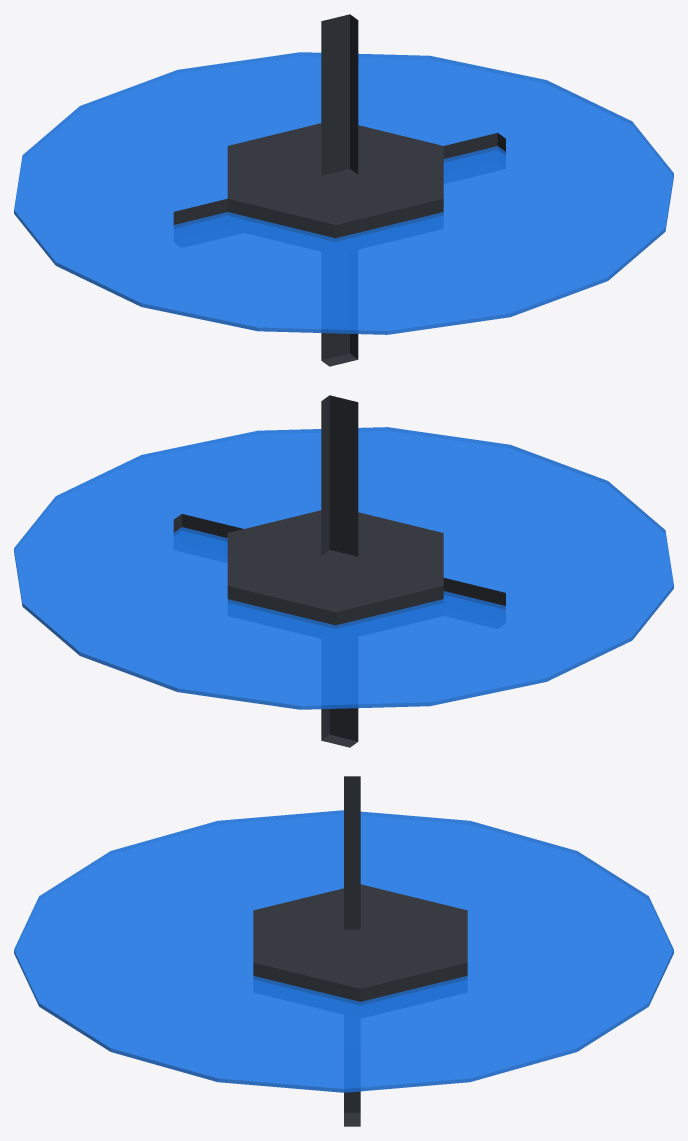
Rendered from energy_shield.obj.
The picture shows the model from 3 angles, top to bottom: view 1: azimuth 30°, elevation 25°; view 2: azimuth 150°, elevation 25°; view 3: azimuth 270°, elevation 25°; orthographic projection.
Visible parts, largest first — view 1: EnergyShield; view 2: EnergyShield; view 3: EnergyShield.
Boxes of the visible parts, <box> form: EnergyShield: <box>14,14,673,366</box>; EnergyShield: <box>14,395,673,747</box>; EnergyShield: <box>14,776,673,1126</box>.
Size of the model in its own units: 1.6 by 0.9 by 1.6.
